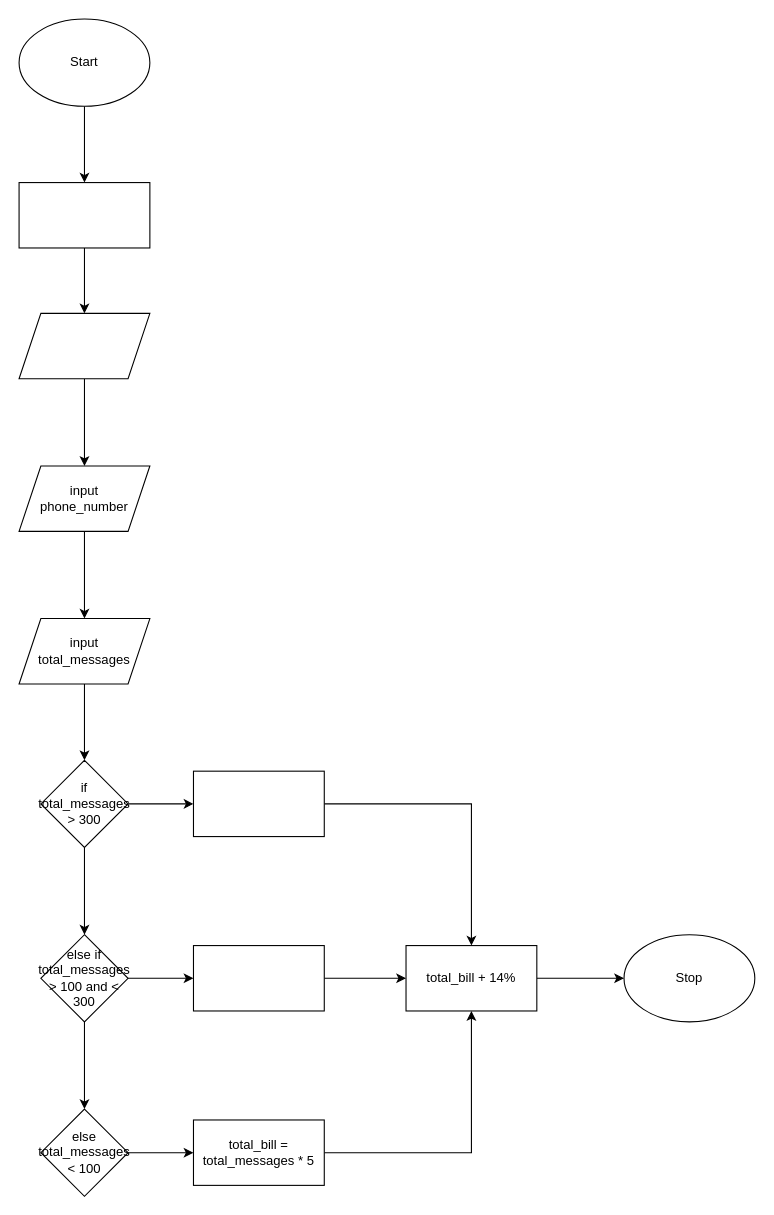
This 774x1215 diagram has some shape labels left out. Here are the shapes that lost their labels. From the top down, the box of each, then its label:
(18, 181, 150, 248): total_bill = float
(18, 312, 150, 379): input area_code
(192, 770, 324, 837): total_bill = (total_messages - 300) * 0.02 + 200 * 0.03 + 5
(192, 944, 324, 1011): total_bill = (total_messages - 100) * 0.02 + 5
